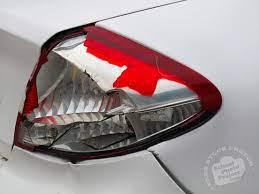Headlight-Damage: (5, 22, 220, 164)
